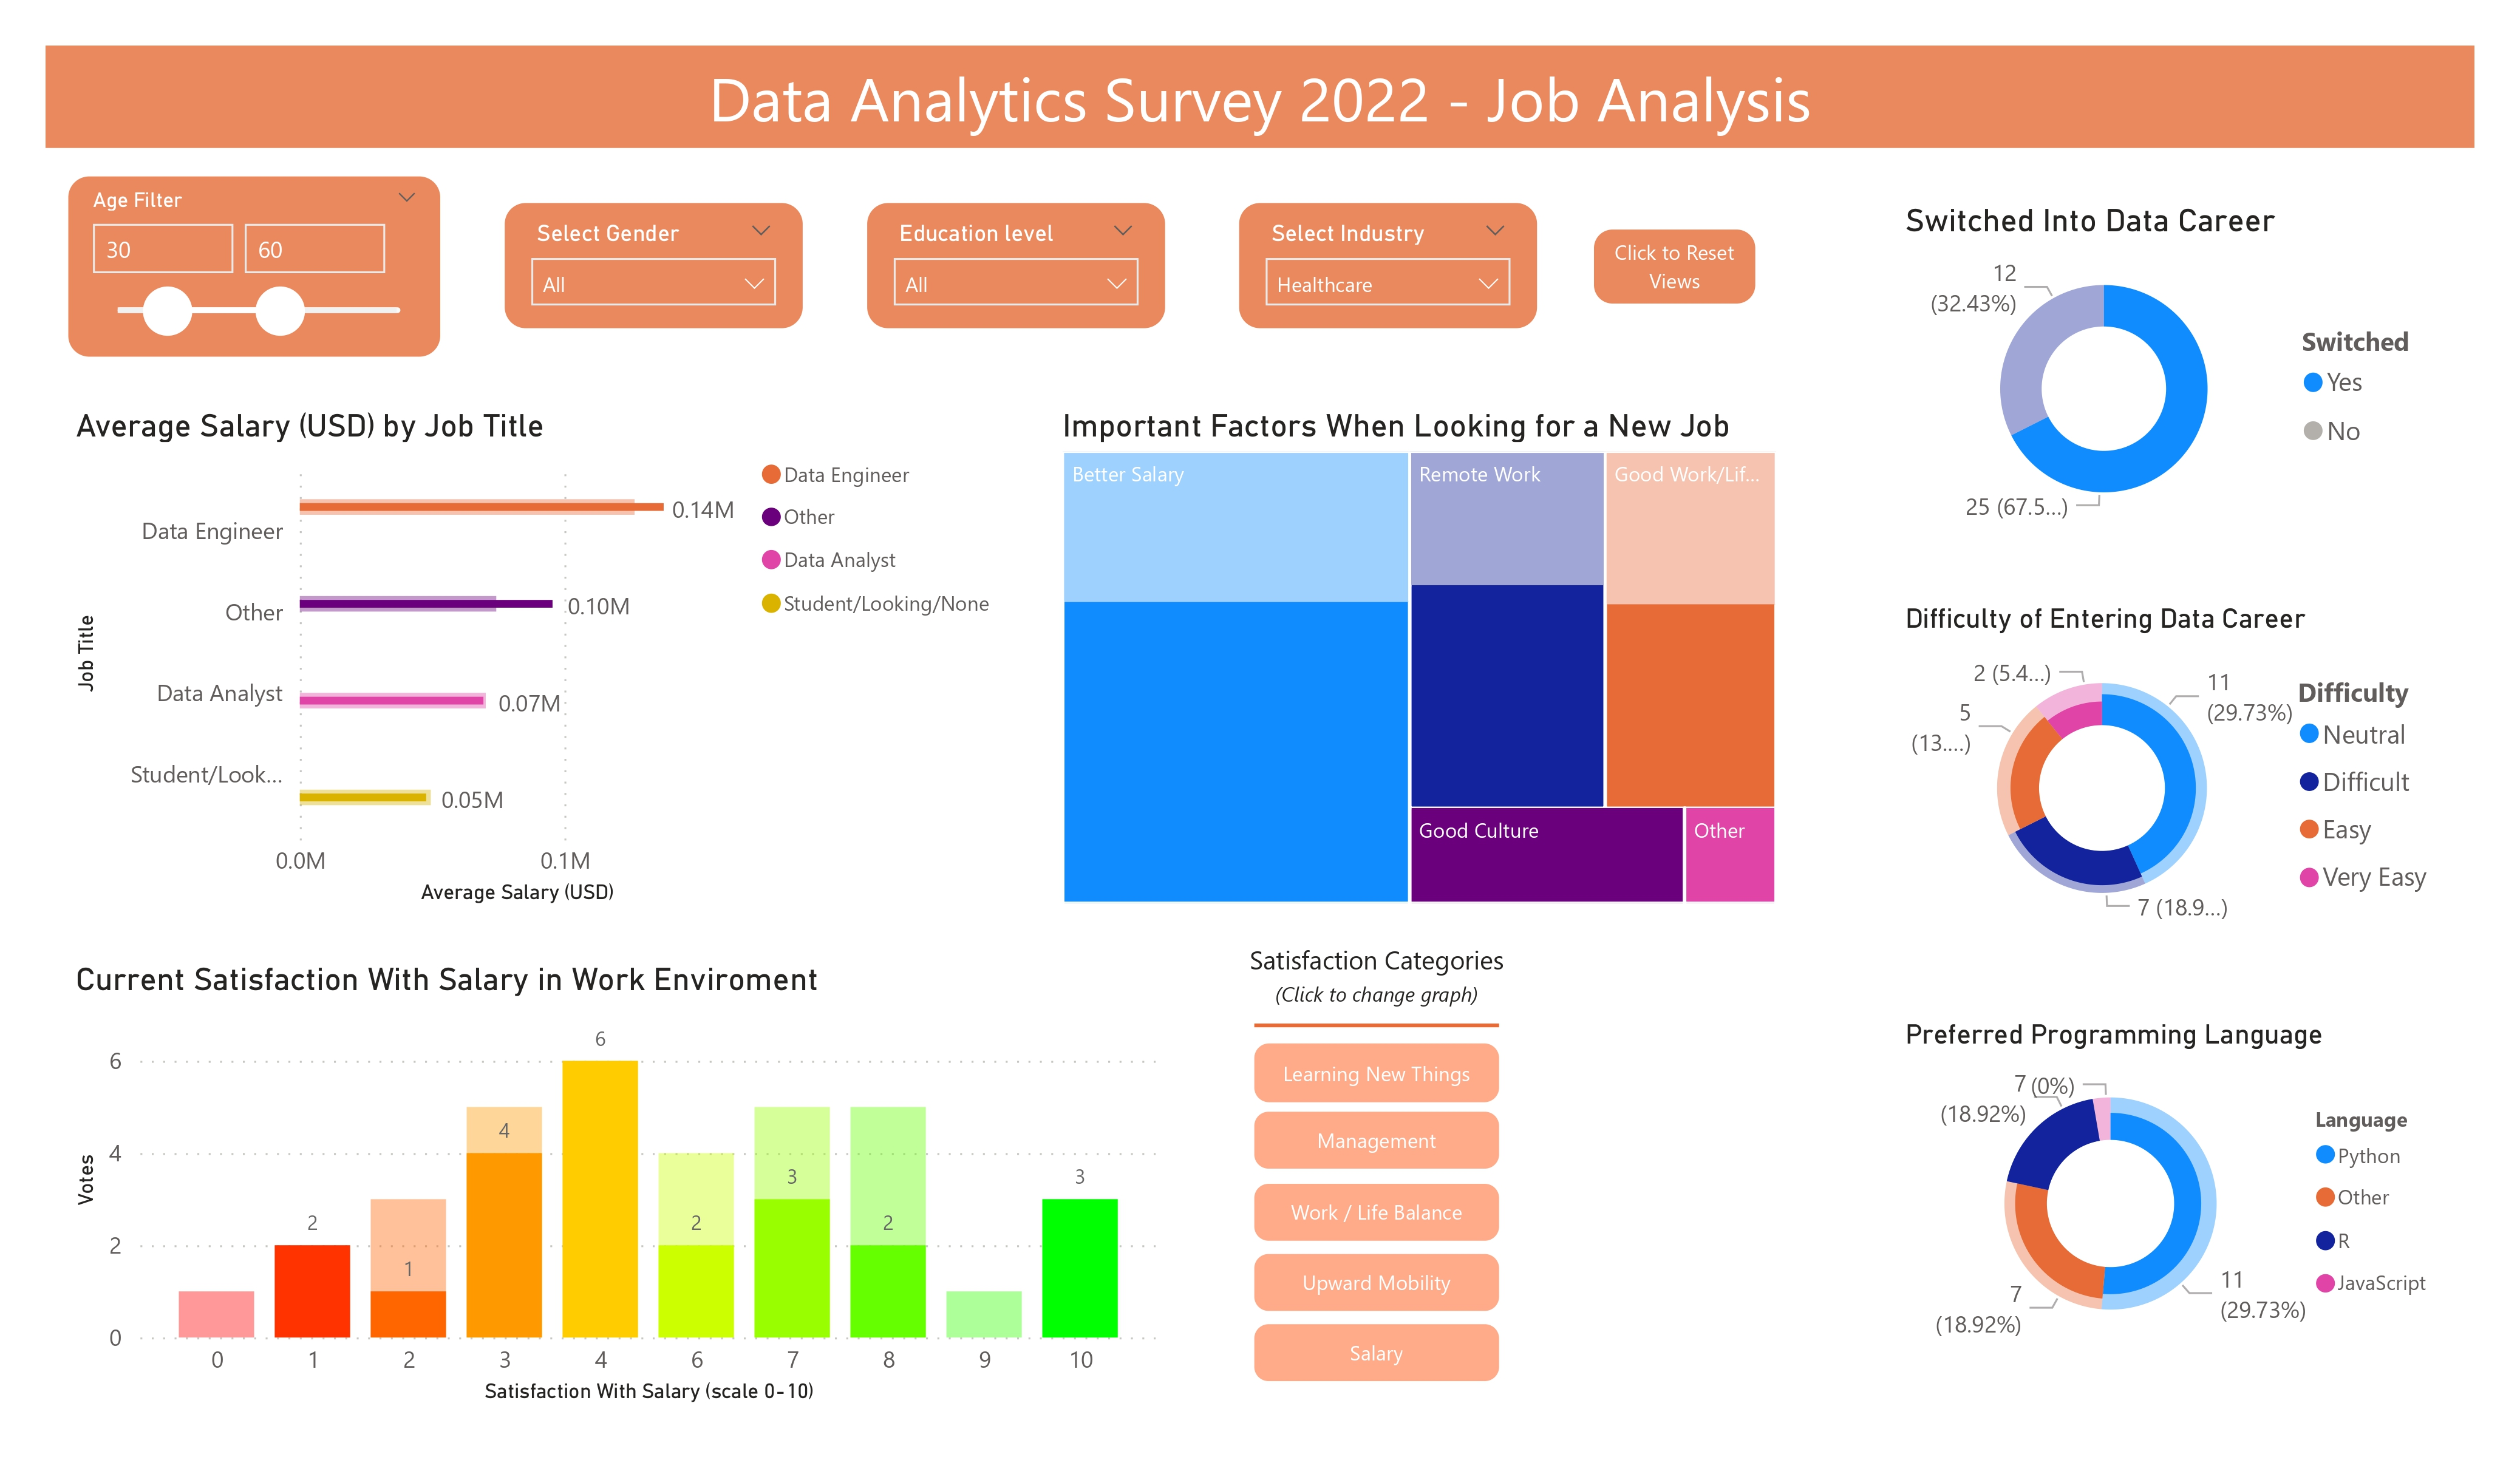

The dashboard page shown, as its layout file describes it:
{"tool":"powerbi","page":{"name":"Job Analysis","canvas":[1280,720],"ordinal":1},"visuals":[{"type":"textbox","box":[0,0,1280,54.3],"z":0},{"type":"clusteredBarChart","title":"Average Salary (USD) by Job Title","fields":{"Y":["Avg(Data Professional Survey.Average Salary (USD))"],"Category":["Data Professional Survey.Q1 - Which Title Best Fits your Current Role?"],"Series":["Data Professional Survey.Q1 - Which Title Best Fits your Current Role?"]},"box":[11.2,190.2,500.5,267],"z":3000},{"type":"slicer","fields":{"Values":["Data Professional Survey.Q12 - Highest Level of Education"]},"box":[431.8,82.3,159.2,68.1],"z":4000},{"type":"slicer","fields":{"Values":["Data Professional Survey.Q10 - Current Age"]},"box":[11.5,68.1,197.7,97.2],"z":5000},{"type":"donutChart","title":"Preferred Programming Language","fields":{"Category":["Data Professional Survey.Q5 - Favorite Programming Language"],"Y":["CountNonNull(Data Professional Survey.Unique ID)"]},"box":[974.8,512.8,294.4,178.8],"z":6000},{"type":"donutChart","title":"Switched Into Data Career","fields":{"Category":["Data Professional Survey.Q2 - Did you switch careers into Data?"],"Y":["Count(Data Professional Survey.Unique ID)"]},"box":[974.8,82.3,294.4,178.8],"z":7000},{"type":"donutChart","title":"Difficulty of Entering Data Career","fields":{"Category":["Data Professional Survey.Q7 - How difficult was it for you to break into Data?"],"Y":["CountNonNull(Data Professional Survey.Unique ID)"]},"box":[974.8,294.4,294.4,178.8],"z":8000},{"type":"slicer","fields":{"Values":["Data Professional Survey.Q4 - What Industry do you work in?"]},"box":[627.5,82.3,159.2,68.1],"z":9000},{"type":"slicer","fields":{"Values":["Data Professional Survey.Q9 - Male/Female?"]},"box":[240.9,82.3,159.2,68.1],"z":10000},{"type":"shape","box":[815.8,97.2,85,39.1],"z":11000},{"type":"shape","box":[637,526.3,128.9,30.4],"z":12000},{"type":"shape","box":[637,674.1,128.9,30.4],"z":13000},{"type":"shape","box":[637,637,128.9,30.4],"z":14000},{"type":"shape","box":[637,562.1,128.9,30.4],"z":15000},{"type":"shape","box":[637,599.9,128.9,30.4],"z":16000},{"type":"textbox","box":[616,467.6,170.7,45.2],"z":17000},{"type":"shape","box":[636.8,509.5,129.1,13.2],"z":18000},{"type":"clusteredColumnChart","title":"Current Satisfaction With Learning New Things in Work Enviroment","fields":{"Category":["Data Professional Survey.Q6 - How Happy are you in your Current Position with the following? (Learning New Things)"],"Y":["CountNonNull(Data Professional Survey.Unique ID)"]},"box":[10.8,482.8,579.5,236.8],"z":24000},{"type":"treemap","title":"Important Factors When Looking for a New Job","fields":{"Group":["Data Professional Survey.Q8 - If you were to look for a new job today, what would be the most important thing to you?"],"Values":["CountNonNull(Data Professional Survey.Unique ID)"]},"box":[531.1,190.2,386.4,267],"z":25000}]}

Visuals, with their boxes on the page's 1280x720 design canvas (x1, y1, x2, y2). These are canvas units, not pixel positions in the 2520x1457 screenshot, which may show the page scaled, cropped or inside an application window:
textbox: [x1=0, y1=0, x2=1280, y2=54]
"Average Salary (USD) by Job Title" clusteredBarChart: [x1=11, y1=190, x2=512, y2=457]
slicer - Data Professional Survey.Q12 - Highest Level of Education: [x1=432, y1=82, x2=591, y2=150]
slicer - Data Professional Survey.Q10 - Current Age: [x1=12, y1=68, x2=209, y2=165]
"Preferred Programming Language" donutChart: [x1=975, y1=513, x2=1269, y2=692]
"Switched Into Data Career" donutChart: [x1=975, y1=82, x2=1269, y2=261]
"Difficulty of Entering Data Career" donutChart: [x1=975, y1=294, x2=1269, y2=473]
slicer - Data Professional Survey.Q4 - What Industry do you work in?: [x1=628, y1=82, x2=787, y2=150]
slicer - Data Professional Survey.Q9 - Male/Female?: [x1=241, y1=82, x2=400, y2=150]
shape: [x1=816, y1=97, x2=901, y2=136]
shape: [x1=637, y1=526, x2=766, y2=557]
shape: [x1=637, y1=674, x2=766, y2=704]
shape: [x1=637, y1=637, x2=766, y2=667]
shape: [x1=637, y1=562, x2=766, y2=592]
shape: [x1=637, y1=600, x2=766, y2=630]
textbox: [x1=616, y1=468, x2=787, y2=513]
shape: [x1=637, y1=510, x2=766, y2=523]
"Current Satisfaction With Learning New Things in Work Enviroment" clusteredColumnChart: [x1=11, y1=483, x2=590, y2=720]
"Important Factors When Looking for a New Job" treemap: [x1=531, y1=190, x2=918, y2=457]
